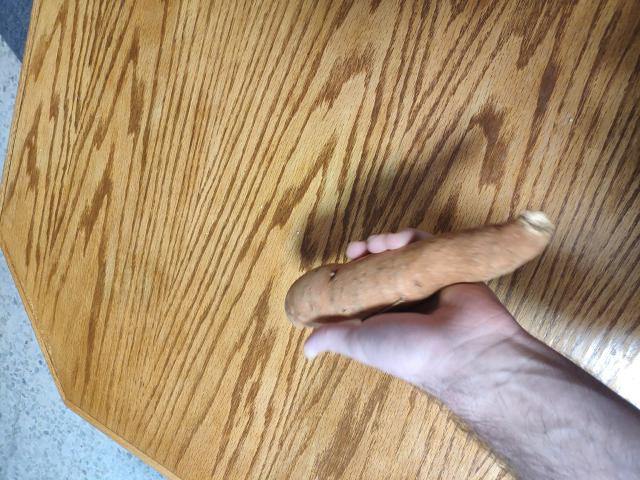sweet_potato: (279, 251, 551, 321)
